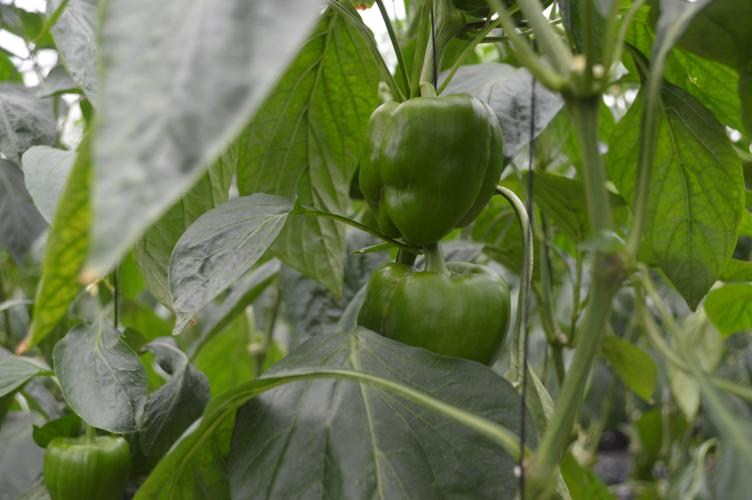BellPepper: (347, 78, 501, 258), (374, 256, 508, 375), (37, 435, 127, 500)
